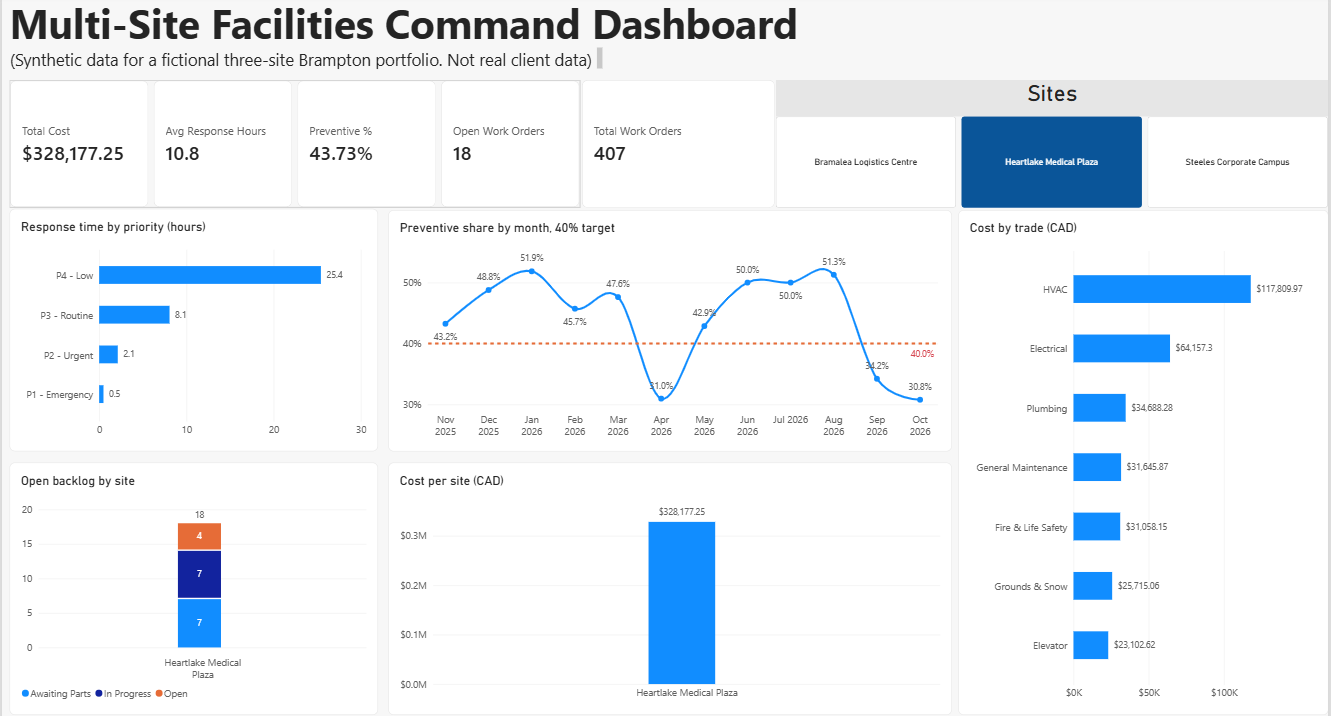

The page's visual inventory and layout, read from the dashboard file:
{"tool":"powerbi","page":{"name":"Page 1","canvas":[1920,1080],"ordinal":0},"visuals":[{"type":"cardVisual","fields":{"Data":["WorkOrders.Total Work Orders"]},"box":[839.8,123.5,279.9,185.2],"z":0},{"type":"cardVisual","fields":{"Data":["WorkOrders.Total Cost","WorkOrders.Avg Response Hours","WorkOrders.Preventive %","WorkOrders.Open Work Orders"]},"box":[10.3,123.5,829.5,185.2],"z":1000},{"type":"clusteredBarChart","title":"Response time by priority (hours)","fields":{"Category":["WorkOrders.priority"],"Y":["WorkOrders.Avg Response Hours"]},"box":[10.9,309.5,533.8,351.1],"z":2000},{"type":"columnChart","title":"Open backlog by site","fields":{"Category":["WorkOrders.site"],"Series":["WorkOrders.status"],"Y":["WorkOrders.Open Work Orders"]},"box":[10.9,676.8,533.8,365.6],"z":3000},{"type":"lineChart","title":"Preventive share by month, 40% target","fields":{"Category":["Calendar.Month"],"Y":["WorkOrders.Preventive %"]},"box":[559.2,311.3,816.2,349.3],"z":4000},{"type":"clusteredColumnChart","title":"Cost per site (CAD)","fields":{"Category":["WorkOrders.site"],"Y":["WorkOrders.Total Cost"]},"box":[559.2,676.8,816.2,365.6],"z":5000},{"type":"clusteredBarChart","title":"Cost by trade (CAD)","fields":{"Category":["WorkOrders.trade"],"Y":["WorkOrders.Total Cost"]},"box":[1384.4,311.3,535.7,731.1],"z":6000},{"type":"advancedSlicerVisual","fields":{"Values":["WorkOrders.site"]},"box":[1119.7,123.5,800.7,185.2],"z":7000},{"type":"textbox","box":[10.3,0,1183.5,150.3],"z":7001},{"type":"textbox","box":[10.3,76.2,858.3,30.9],"z":7002}]}

Visuals, with their boxes on the page's 1920x1080 design canvas (x1, y1, x2, y2). These are canvas units, not pixel positions in the 1331x716 screenshot, which may show the page scaled, cropped or inside an application window:
cardVisual - WorkOrders.Total Work Orders: crop(840, 124, 1120, 309)
cardVisual - WorkOrders.Total Cost x WorkOrders.Avg Response Hours: crop(10, 124, 840, 309)
"Response time by priority (hours)" clusteredBarChart: crop(11, 310, 545, 661)
"Open backlog by site" columnChart: crop(11, 677, 545, 1042)
"Preventive share by month, 40% target" lineChart: crop(559, 311, 1375, 661)
"Cost per site (CAD)" clusteredColumnChart: crop(559, 677, 1375, 1042)
"Cost by trade (CAD)" clusteredBarChart: crop(1384, 311, 1920, 1042)
advancedSlicerVisual - WorkOrders.site: crop(1120, 124, 1920, 309)
textbox: crop(10, 0, 1194, 150)
textbox: crop(10, 76, 869, 107)
